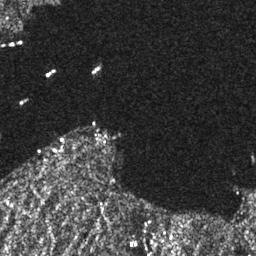ship: (43, 67, 59, 79), (91, 64, 103, 77)
